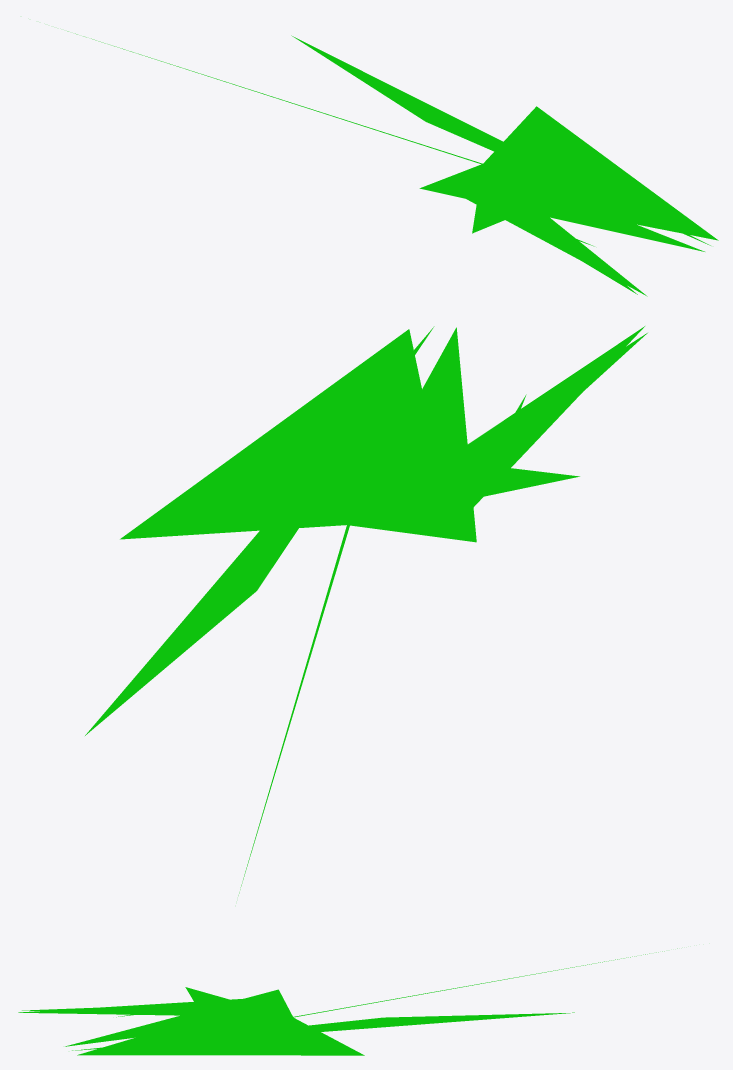
3 views of the same model, one above another, from view 1: azimuth 30°, elevation 25°; view 2: azimuth 150°, elevation 25°; view 3: azimuth 270°, elevation 25° (orthographic). The views are drawn at different scales.
Size of the model in its own units: 90.06 by 0 by 235.
